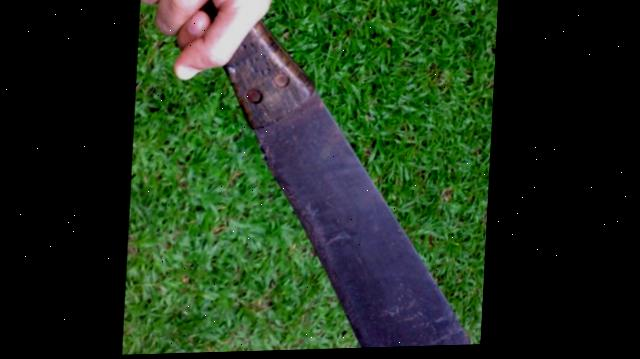long knife: (125, 0, 499, 356)
